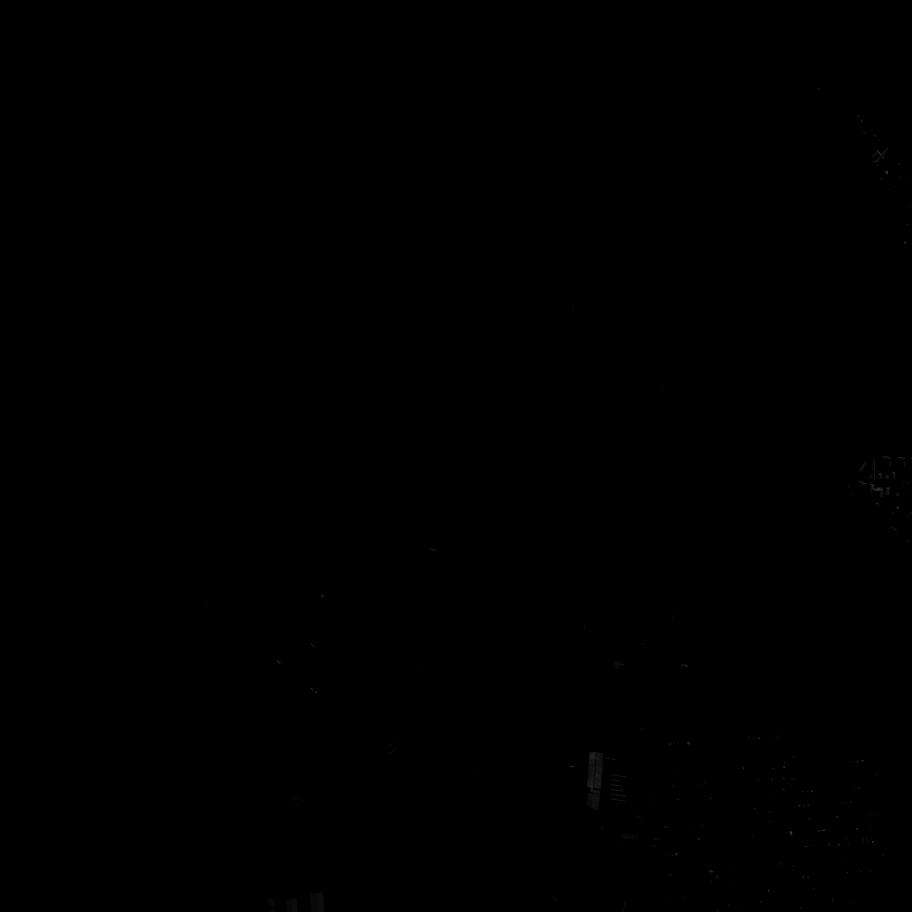plane: (553, 730, 566, 743), (567, 761, 579, 775), (216, 630, 224, 639), (577, 700, 584, 707), (616, 687, 621, 693), (590, 701, 595, 706), (593, 743, 596, 750), (501, 662, 506, 666), (607, 687, 611, 691), (629, 714, 633, 718), (619, 713, 622, 717), (622, 691, 625, 694), (629, 702, 632, 705), (621, 713, 624, 716), (591, 685, 594, 688), (619, 710, 622, 713), (615, 709, 619, 711), (612, 704, 616, 706), (612, 708, 614, 712), (619, 690, 621, 693), (631, 710, 633, 713), (583, 700, 585, 703), (619, 705, 621, 708), (625, 714, 627, 716), (627, 713, 629, 715), (588, 701, 589, 703), (631, 707, 632, 709), (623, 706, 625, 707)
storage-tank: (841, 479, 847, 485)
